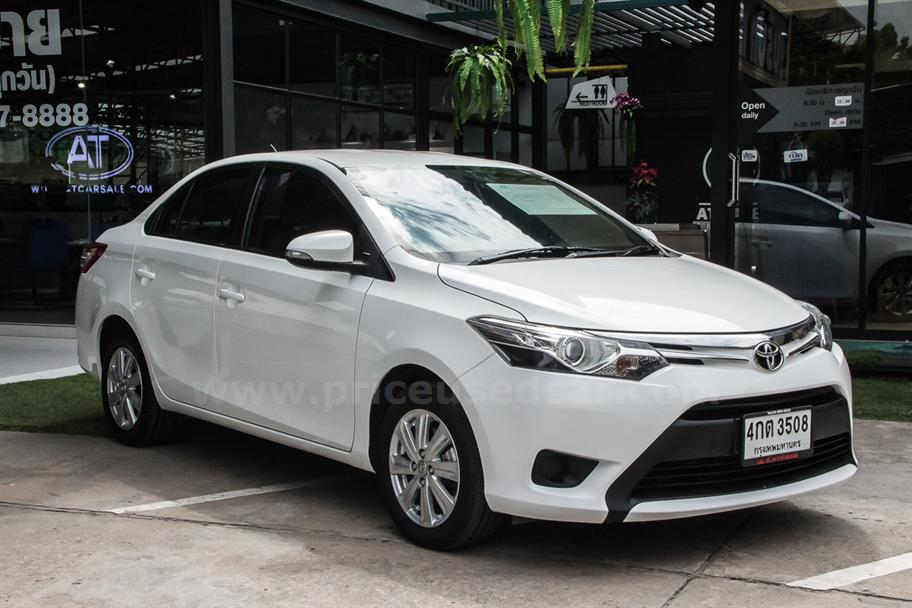sedan: (69, 142, 863, 551)
